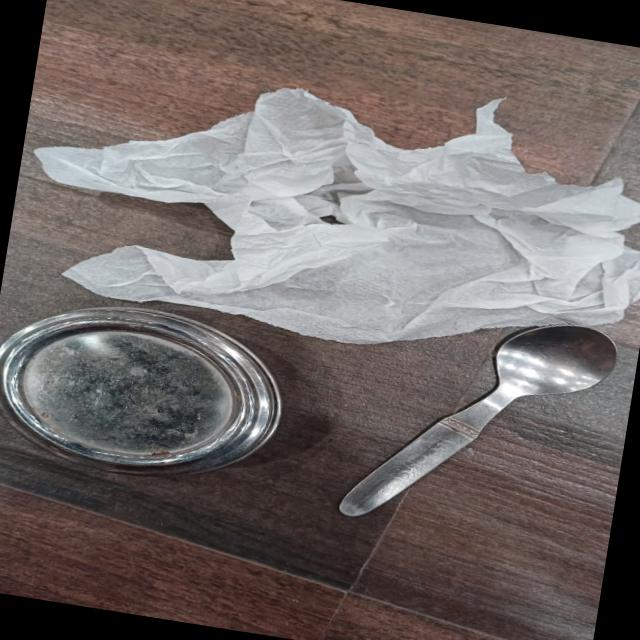Steel-NonBio: (334, 292, 622, 551), (0, 284, 296, 498)
Tissue Paper-Bio: (11, 24, 640, 389)
